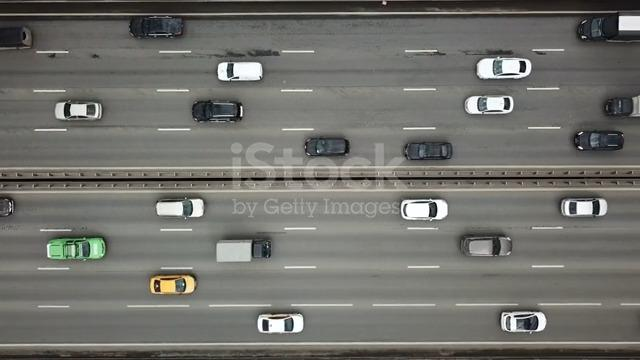Cars: (47, 236, 107, 261), (476, 57, 532, 80), (129, 16, 185, 39), (192, 100, 244, 123), (574, 130, 625, 152), (55, 100, 103, 122), (257, 313, 305, 334), (560, 197, 608, 218), (464, 95, 514, 115), (150, 274, 197, 295), (404, 141, 453, 161), (218, 61, 264, 82), (305, 137, 350, 157), (605, 97, 634, 117)
